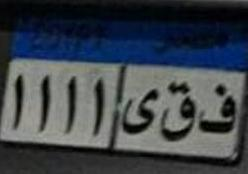1: (88, 76, 107, 142), (35, 72, 54, 134), (62, 75, 81, 135), (9, 69, 26, 133)
faa: (198, 77, 239, 137)
qaaf: (161, 77, 196, 149)
yaa: (121, 85, 157, 141)
